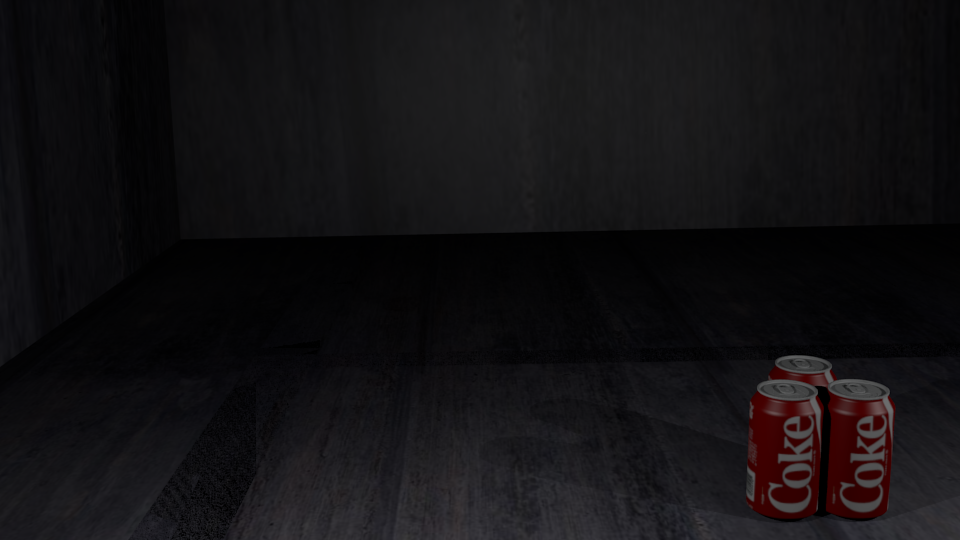cola_can: (749, 380, 823, 515), (820, 379, 894, 513), (770, 356, 836, 482)
